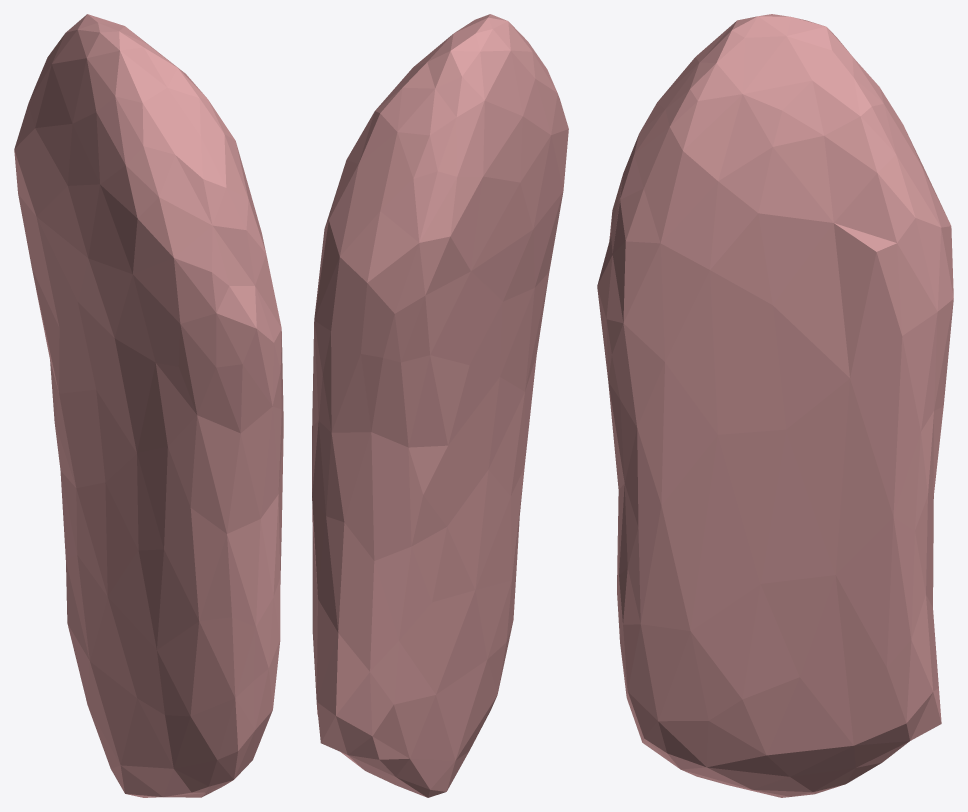
The picture shows the model from 3 angles, left to right: view 1: azimuth 30°, elevation 25°; view 2: azimuth 150°, elevation 25°; view 3: azimuth 270°, elevation 25°; orthographic projection. The views are drawn at different scales.
Parts seen in each view (by area): view 1: 609.obj; view 2: 609.obj; view 3: 609.obj.
Part boxes in pixels (x1,y1,x2,y2): 609.obj: (14,14,283,797); 609.obj: (312,14,568,797); 609.obj: (597,14,953,797).
Bounding box in the file's own units: 269 × 1330 × 562.
